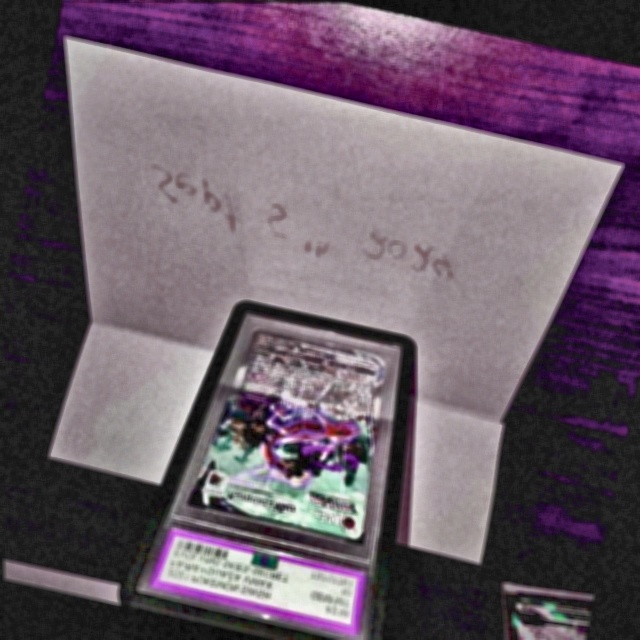card: (190, 328, 386, 537)
